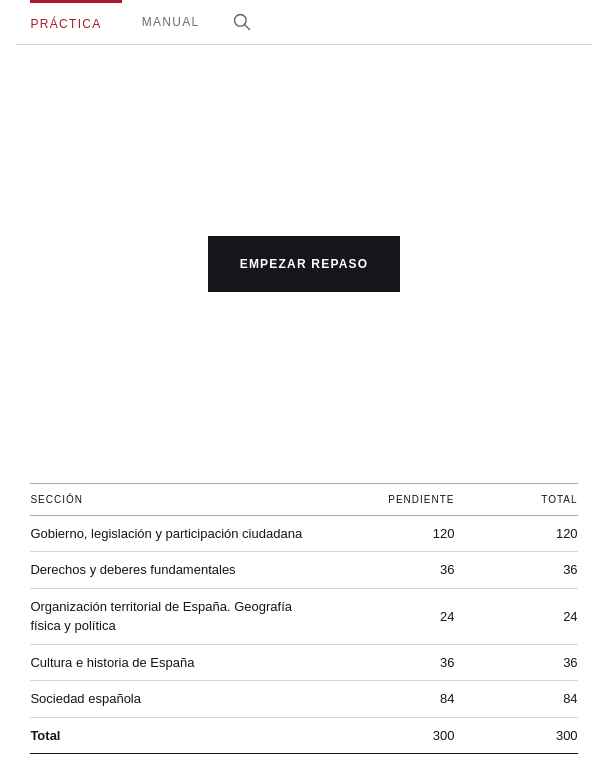
Test: App › offers Otra vez after a wrong answer
The width and height of the screenshot is (609, 768).
Click the button "Empezar repaso".
click(304, 264)  # box [208,236,400,292]
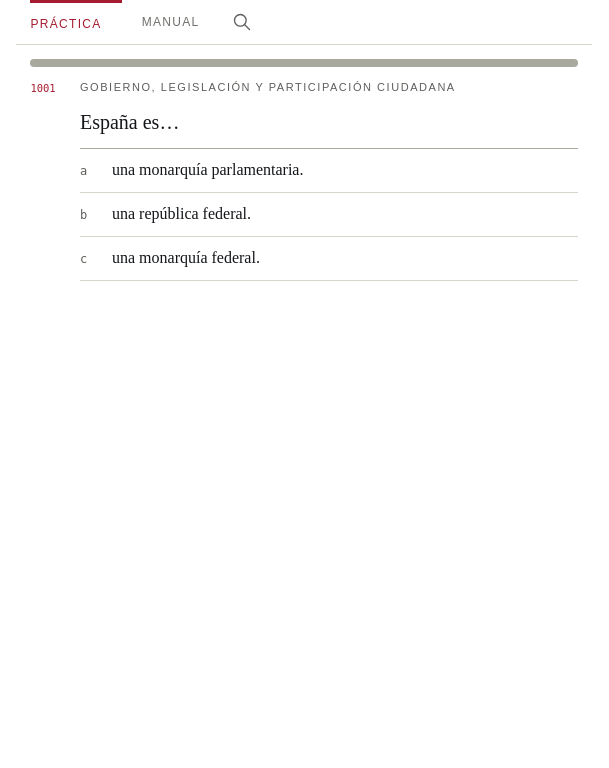
Click the button "b una república federal.".
click(182, 214)  # box [80,193,578,237]
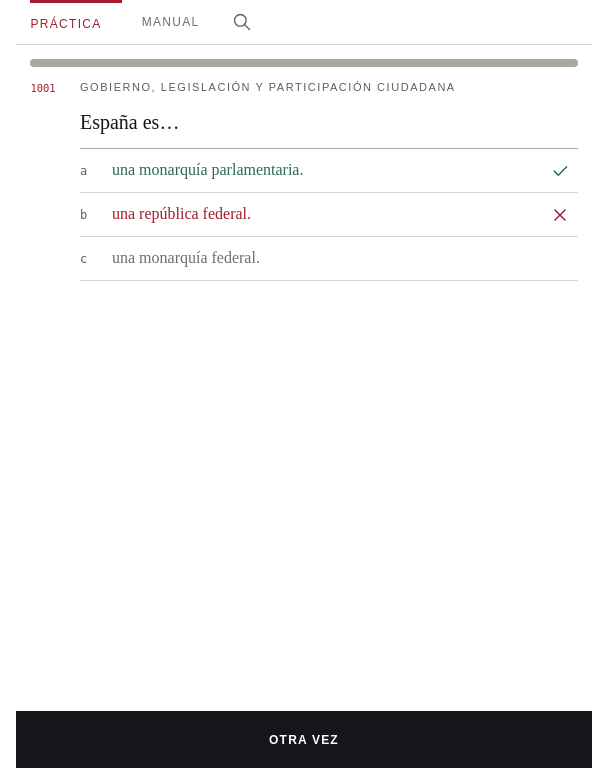
Now the button "Otra vez" is shown, box [16,712,592,767]
